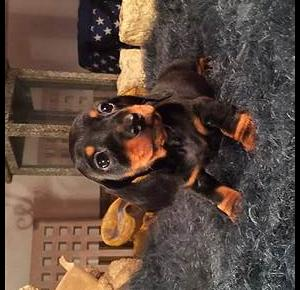dog: (67, 55, 259, 224)
